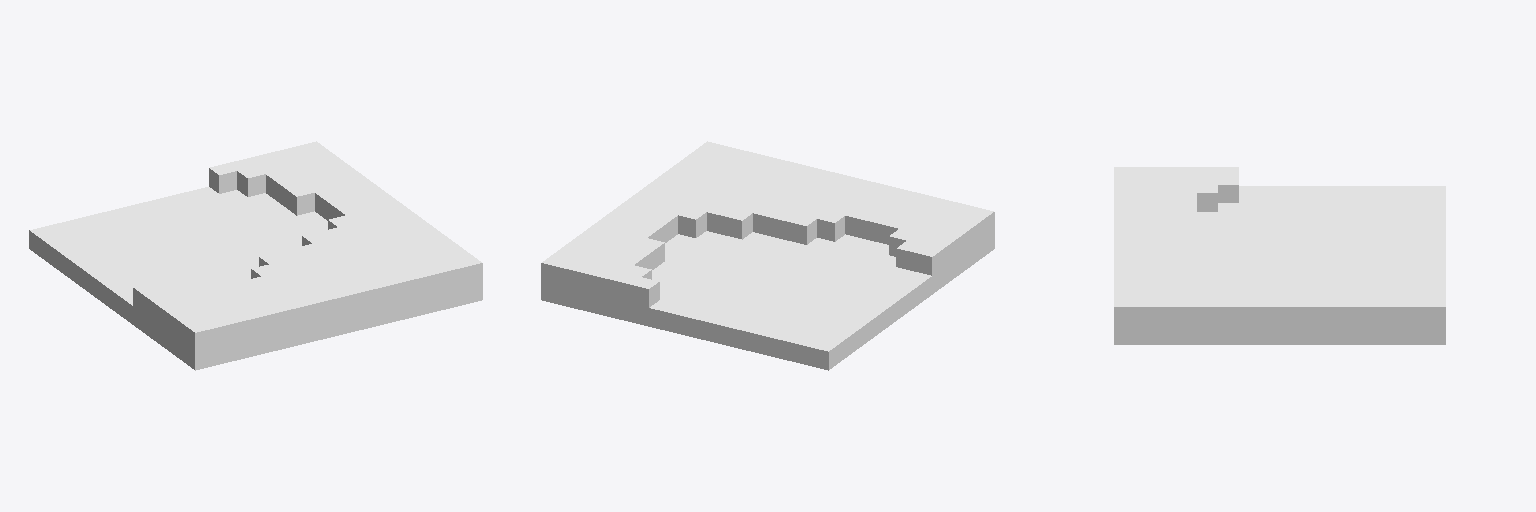
File: Lake_3.obj
3 renders of one model, left to right at view 1: azimuth 30°, elevation 25°; view 2: azimuth 150°, elevation 25°; view 3: azimuth 270°, elevation 25°, orthographic.
Parts seen in each view (by area): view 1: object 1; view 2: object 1; view 3: object 1.
Part boxes in pixels (x1,y1,x2,y2): object 1: (29,141,482,370); object 1: (541,141,994,370); object 1: (1114,167,1445,344).
Size of the model in its own units: 1.6 by 0.2 by 1.6.